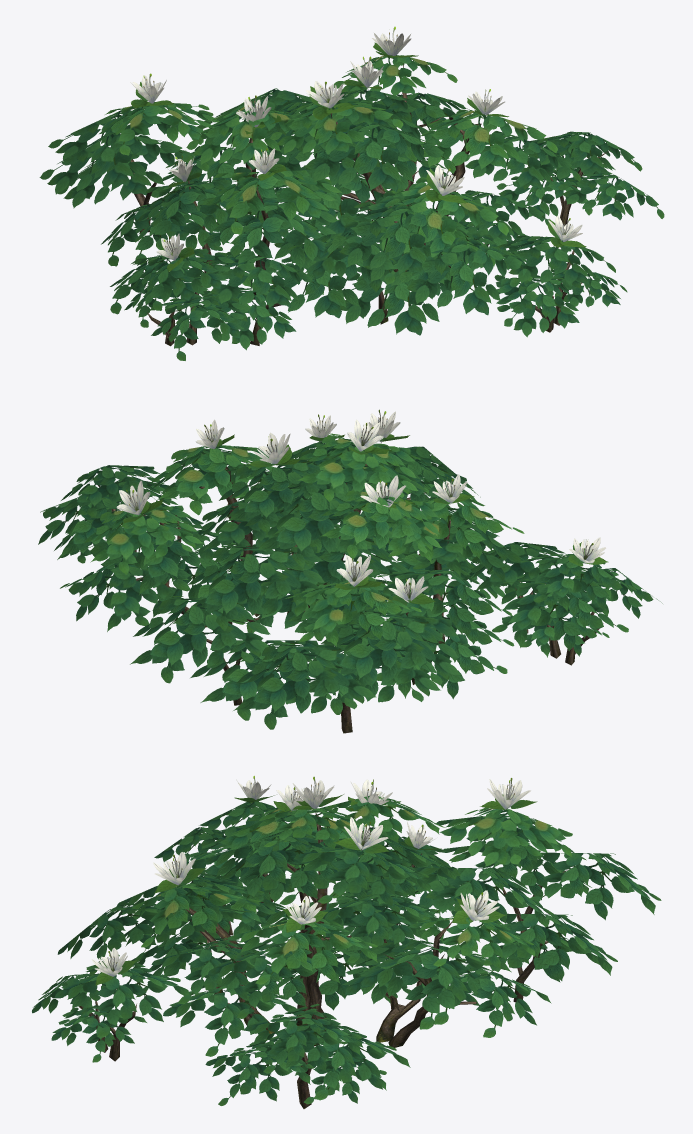
The model's file is 1001_Plant_huacao_06.FBX.
3 views of the same model, one above another, from view 1: azimuth 30°, elevation 25°; view 2: azimuth 150°, elevation 25°; view 3: azimuth 270°, elevation 25° (orthographic). The views are drawn at different scales.
Visible parts, largest first — view 1: 1001_Plant_huacao_06; view 2: 1001_Plant_huacao_06; view 3: 1001_Plant_huacao_06.
Boxes of the visible parts, box(x1,y1,x2,y2) form: 1001_Plant_huacao_06: box(39, 26, 664, 360); 1001_Plant_huacao_06: box(38, 409, 662, 733); 1001_Plant_huacao_06: box(32, 776, 661, 1108).
Bounding box in the file's own units: 480 × 176 × 462.
